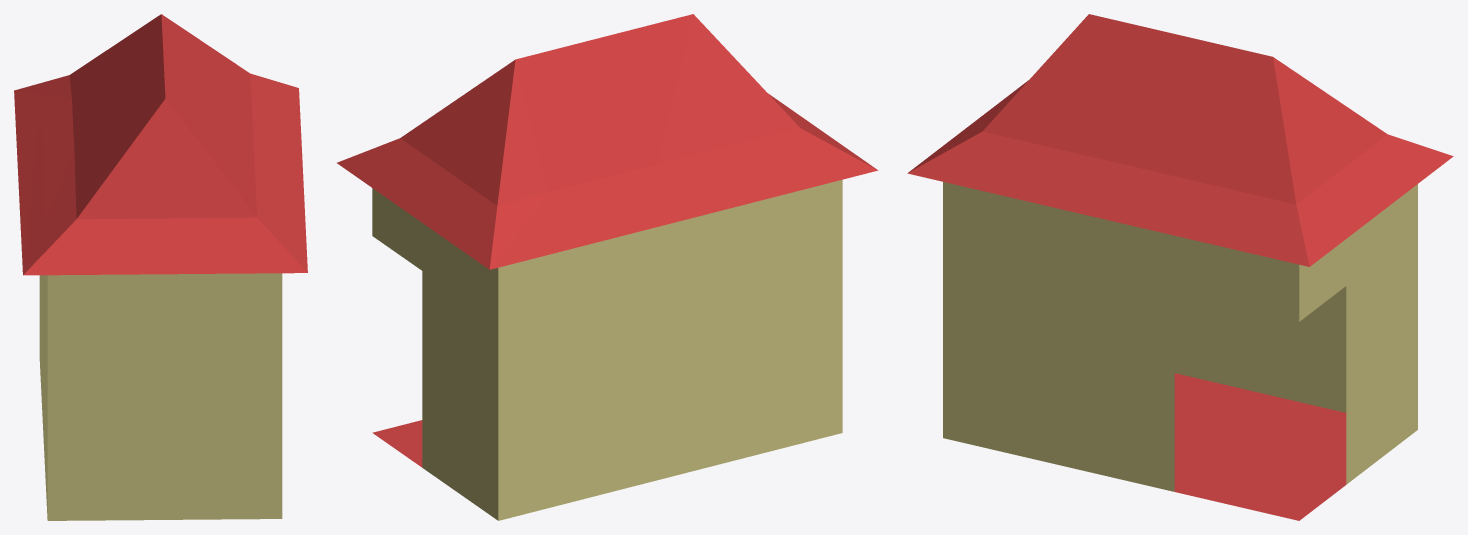
3 views of the same model, side by side, from view 1: azimuth 30°, elevation 25°; view 2: azimuth 150°, elevation 25°; view 3: azimuth 270°, elevation 25° (orthographic). The views are drawn at different scales.
Parts seen in each view (by area): view 1: group_5, group_3, group_4; view 2: group_5, group_3, group_4, group_6; view 3: group_5, group_3, group_6, group_4.
Part boxes in pixels (<box>): group_5: <box>39,273,282,520</box>; group_3: <box>14,14,307,275</box>; group_4: <box>19,81,307,274</box>; group_5: <box>372,179,842,520</box>; group_3: <box>337,14,876,269</box>; group_4: <box>490,103,878,266</box>; group_6: <box>372,420,422,467</box>; group_5: <box>943,182,1417,491</box>; group_3: <box>911,14,1453,266</box>; group_6: <box>1174,373,1346,520</box>; group_4: <box>907,100,1160,232</box>.
Bounding box in the file's own units: 18.39 × 20.79 × 16.78.
